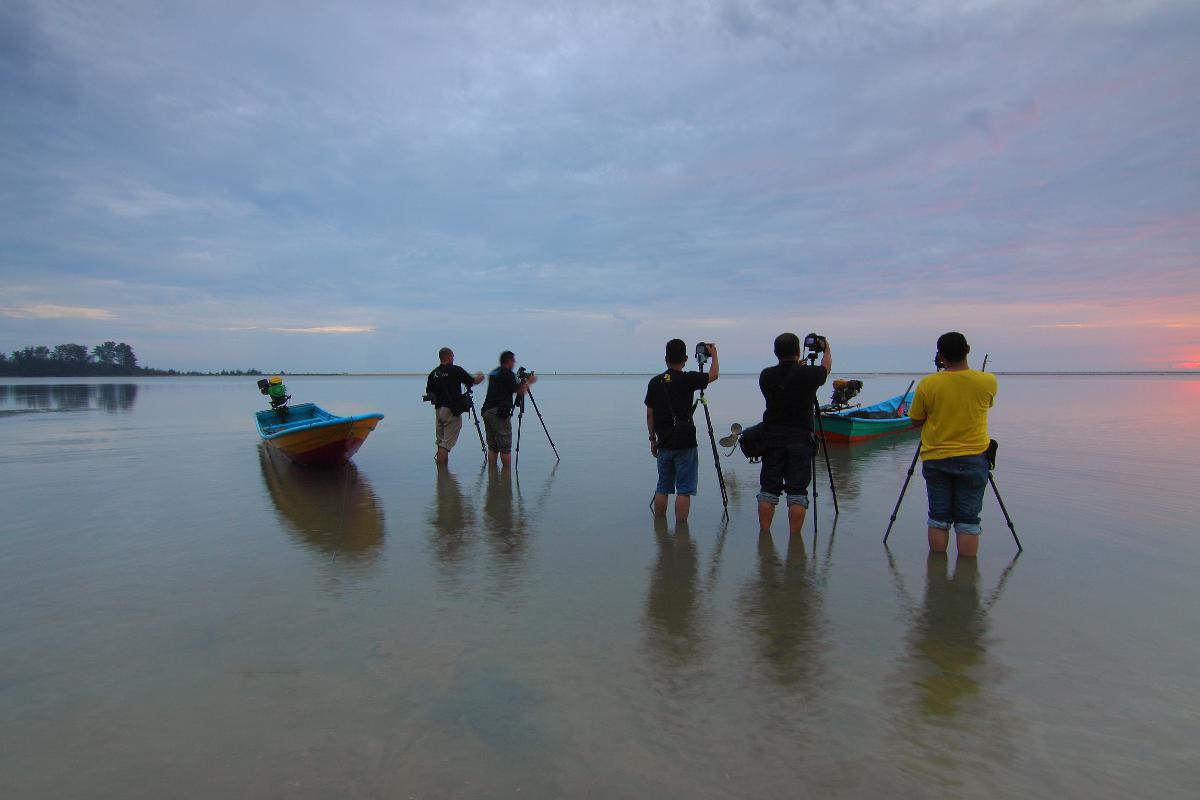Person: (907, 335, 1027, 573), (748, 335, 836, 559), (639, 335, 718, 526), (474, 347, 542, 485), (418, 347, 483, 473)
